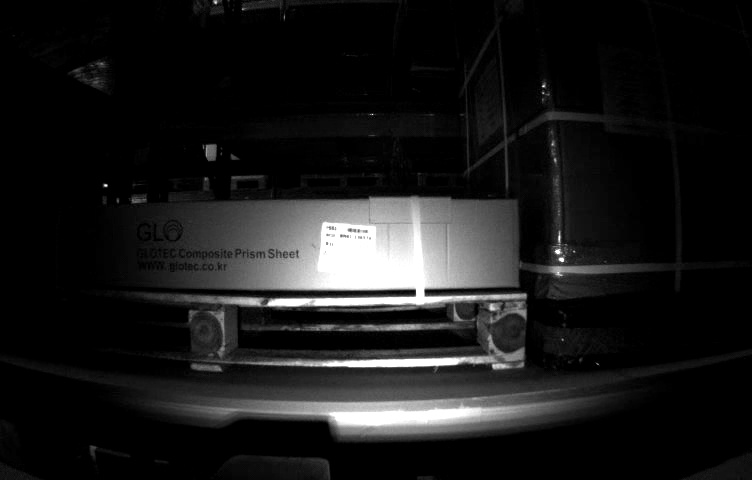True Barcode: (321, 221, 375, 277)
